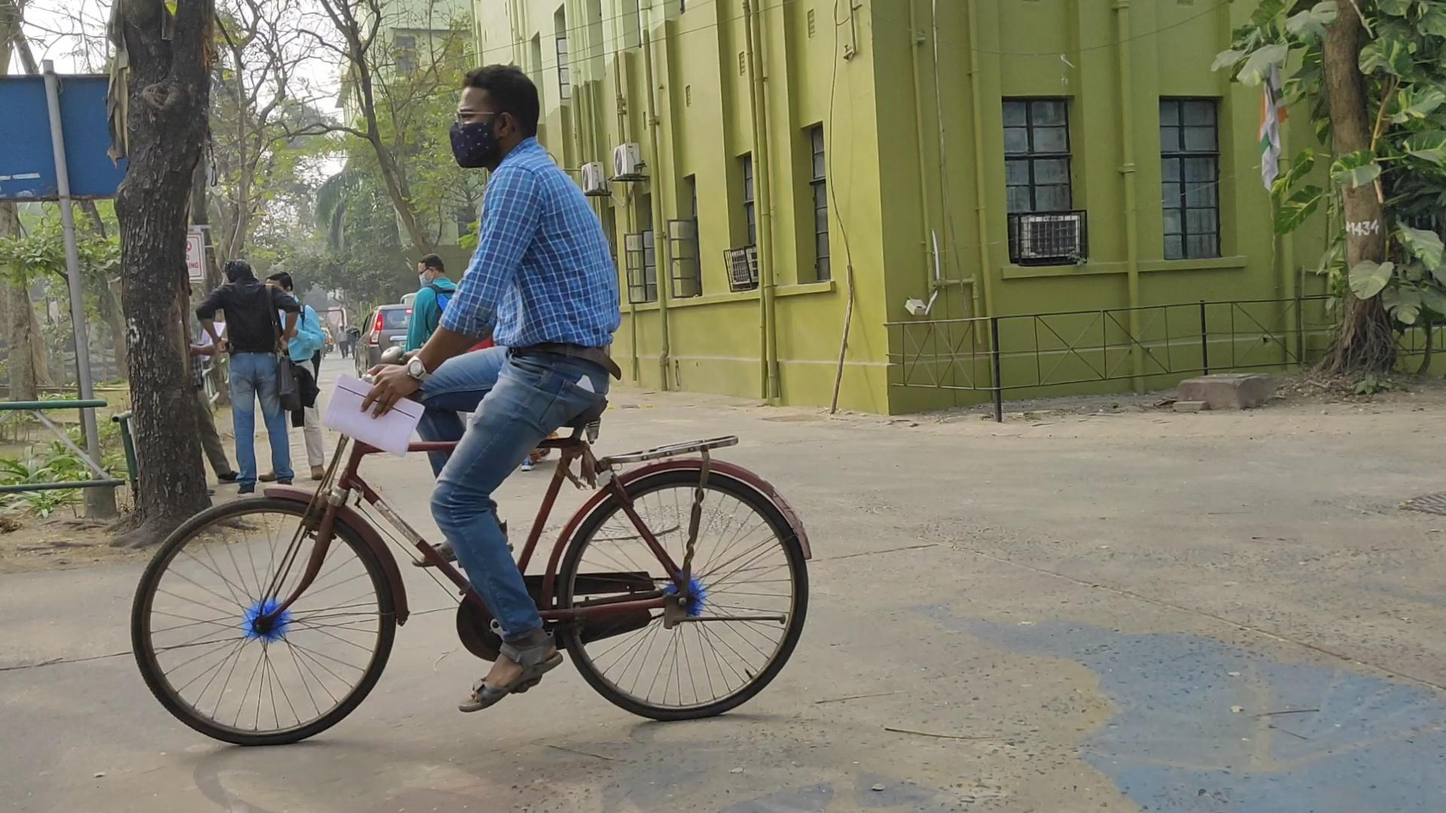car: (133, 65, 813, 745)
